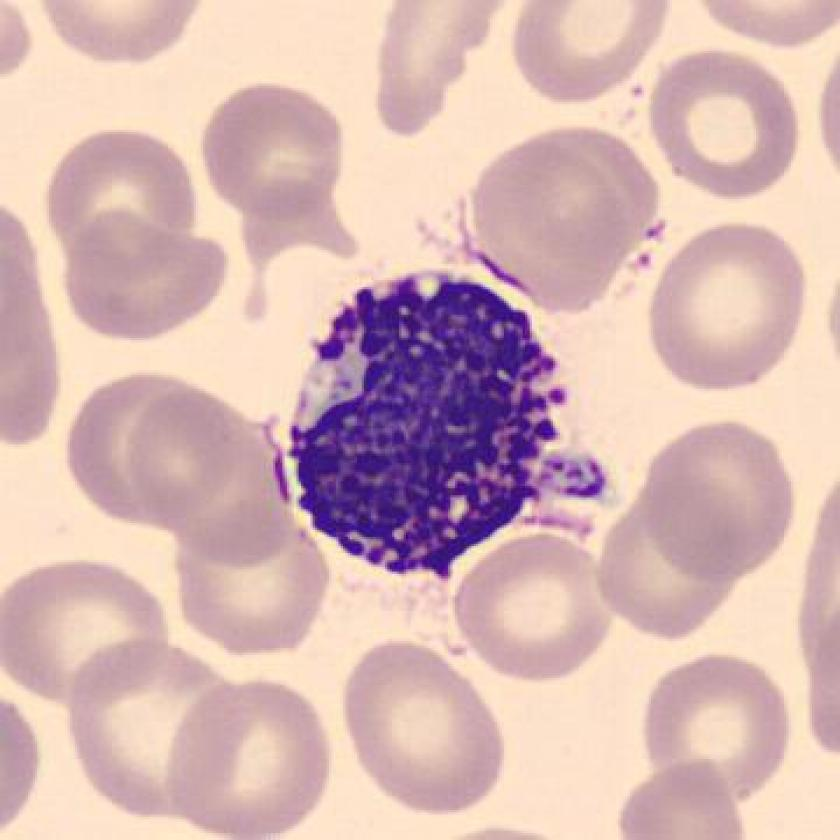basophil: (276, 262, 561, 582)
